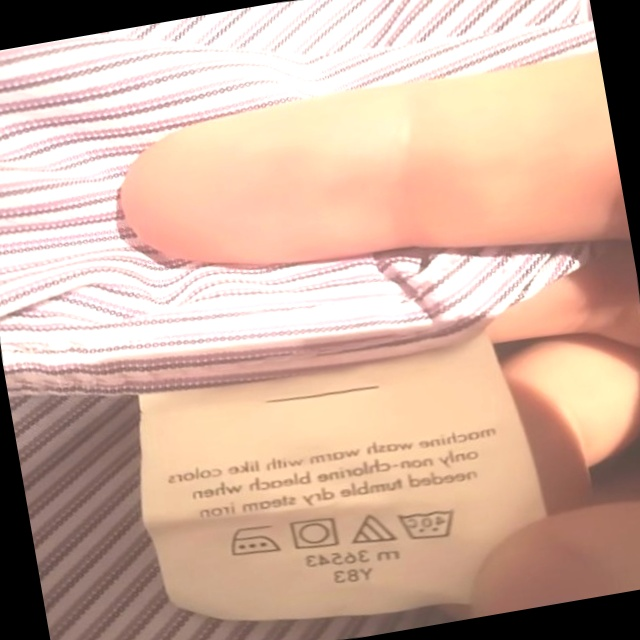40C: (393, 500, 461, 550)
iron_high: (220, 517, 283, 564)
non_chlorine_bleach: (346, 507, 399, 552)
tumble_dry_normal: (283, 513, 342, 557)
